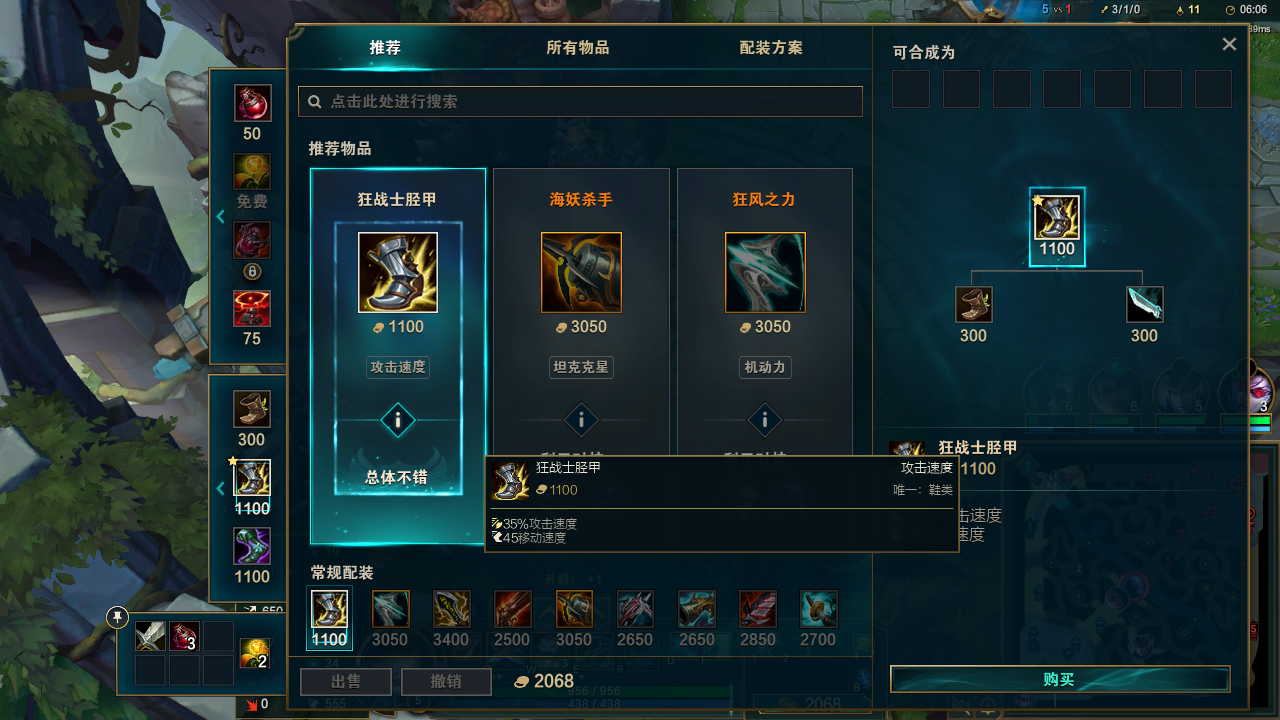GTH: (560, 400, 600, 436), (747, 402, 784, 439)
TJGTH: (331, 390, 465, 456)
TJJM: (327, 36, 429, 71)
